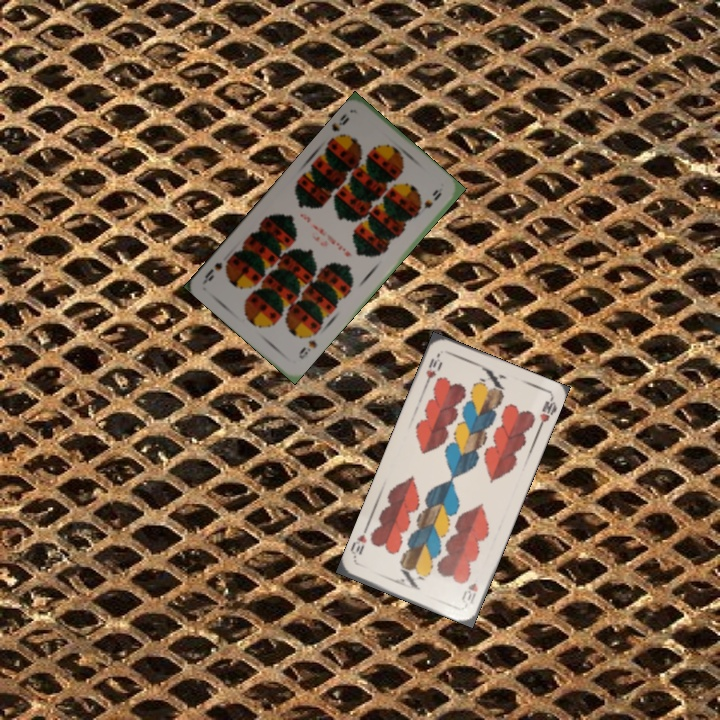H10: (421, 350, 445, 389), (458, 579, 481, 608)
S9: (294, 336, 320, 362), (328, 110, 352, 134)
